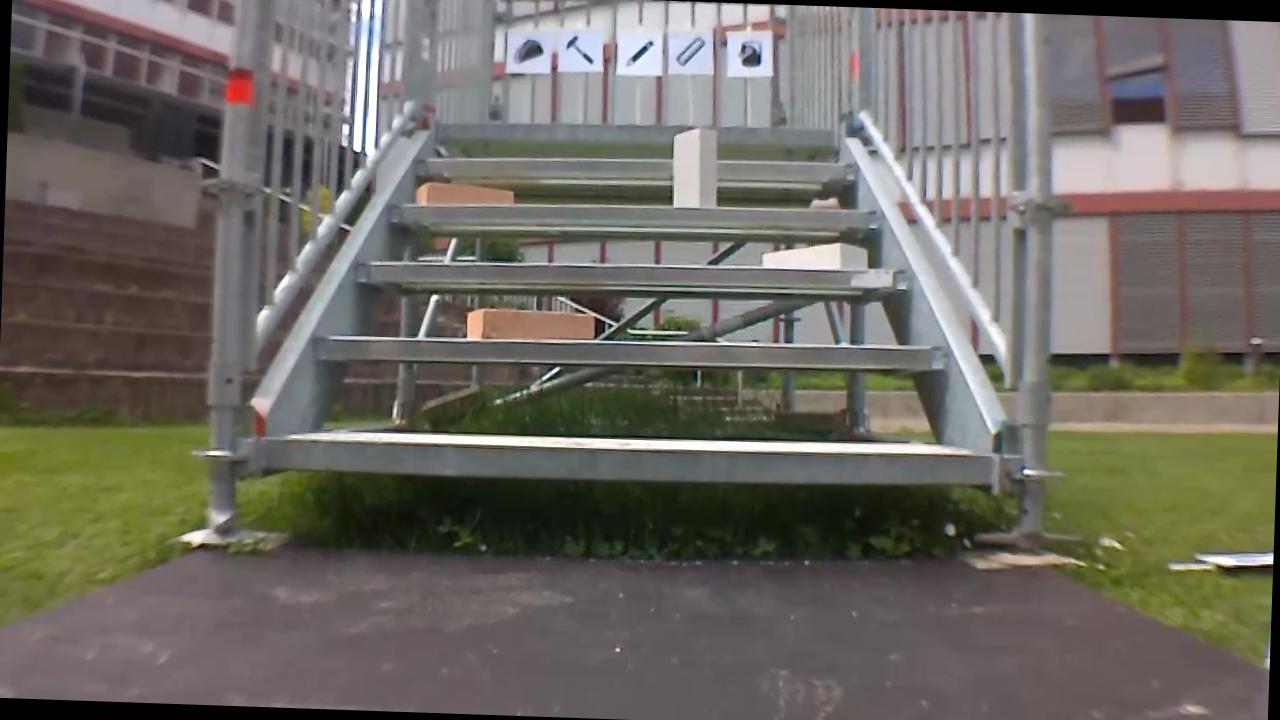brick: (465, 307, 593, 341), (672, 129, 719, 208), (762, 239, 867, 270), (414, 182, 514, 207)
bucket: (730, 34, 766, 69)
edge: (262, 427, 994, 493), (318, 324, 949, 374), (357, 250, 915, 294), (392, 190, 877, 232), (417, 149, 858, 185), (438, 115, 838, 150)
hammer: (559, 32, 599, 68)
pencil: (621, 33, 655, 70)
ruler: (671, 31, 709, 72)
steps: (246, 102, 1014, 506)
taco: (508, 34, 547, 69)
